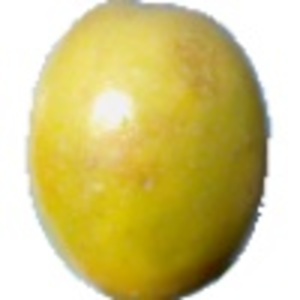maracujá: (24, 1, 274, 300)
